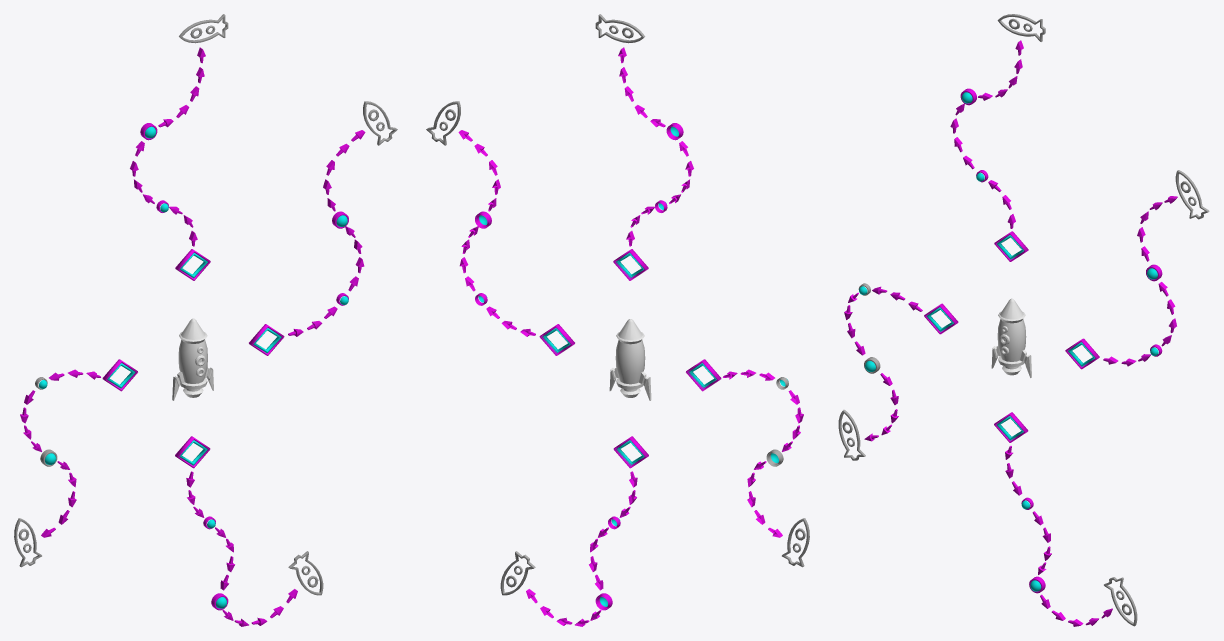
Rendered from new_world_map.fbx.
3 views of the same model, side by side, from view 1: azimuth 30°, elevation 25°; view 2: azimuth 150°, elevation 25°; view 3: azimuth 330°, elevation 25° (orthographic). The views are drawn at different scales.
Visible parts, largest first — view 1: wm_spaceship_base, mw_shipparts, mw_shipparts3, wm_spaceship_base1, mw_shipparts2, mw_shipparts1; view 2: wm_spaceship_base, mw_shipparts, mw_shipparts3, mw_shipparts1, mw_shipparts2; view 3: wm_spaceship_base, mw_shipparts1, mw_shipparts2, mw_shipparts3, mw_shipparts.
Boxes of the visible parts, bbox=[...] form: wm_spaceship_base: bbox=[178, 318, 207, 397]; mw_shipparts: bbox=[179, 14, 228, 43]; mw_shipparts3: bbox=[14, 518, 41, 567]; wm_spaceship_base1: bbox=[172, 347, 213, 400]; mw_shipparts2: bbox=[288, 551, 323, 595]; mw_shipparts1: bbox=[363, 101, 397, 145]; wm_spaceship_base: bbox=[615, 319, 645, 397]; mw_shipparts: bbox=[595, 14, 644, 43]; mw_shipparts3: bbox=[782, 518, 809, 567]; mw_shipparts1: bbox=[426, 101, 460, 145]; mw_shipparts2: bbox=[500, 551, 535, 595]; wm_spaceship_base: bbox=[997, 298, 1026, 375]; mw_shipparts1: bbox=[1175, 170, 1209, 219]; mw_shipparts2: bbox=[1104, 577, 1137, 626]; mw_shipparts3: bbox=[838, 409, 865, 460]; mw_shipparts: bbox=[997, 14, 1045, 41].
Size of the model in its own units: 41.25 by 63.79 by 2.92.
